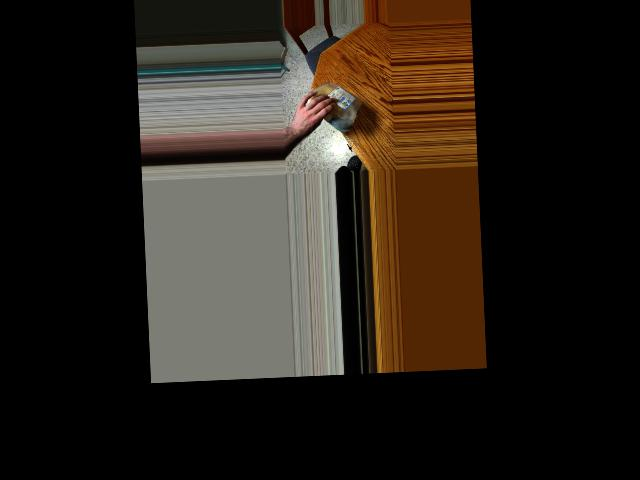cheese: (300, 79, 365, 133)
